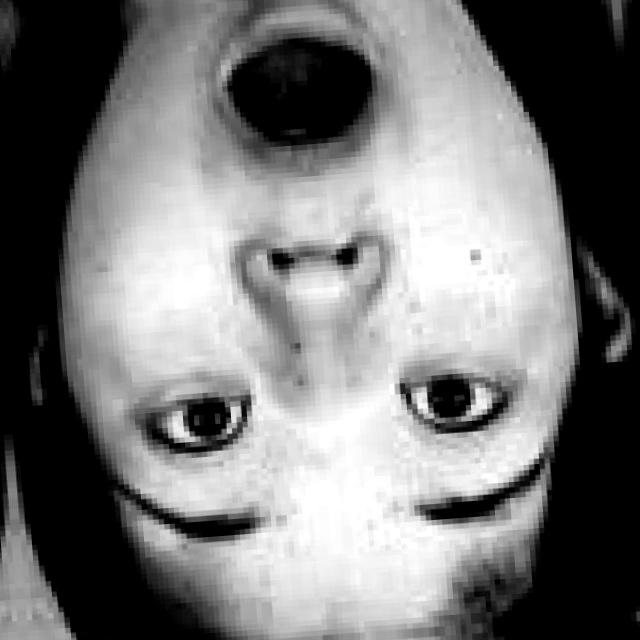surprise: (36, 0, 562, 619)
